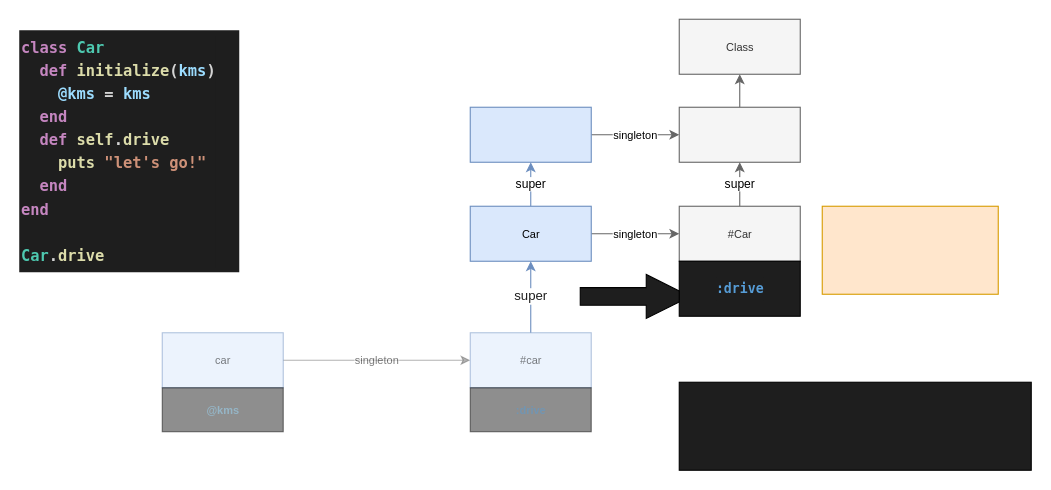
The diagram is 1051 pixels wide and 490 high, and some of its shapes have lost their labels. The shapes that lost their labels are listed below. From the top down, each one's centre as x and y in pixels, then its label:
At pixel 530 134: "Object".
At pixel 739 134: "# Object".
At pixel 909 249: "self. 跟 class << self 都是打開 singleton_class，將方法宣告在其中。".
At pixel 634 295: "Car . drive".
At pixel 854 425: "Car . singleton_class.instance_methods false => [ :drive ]".
